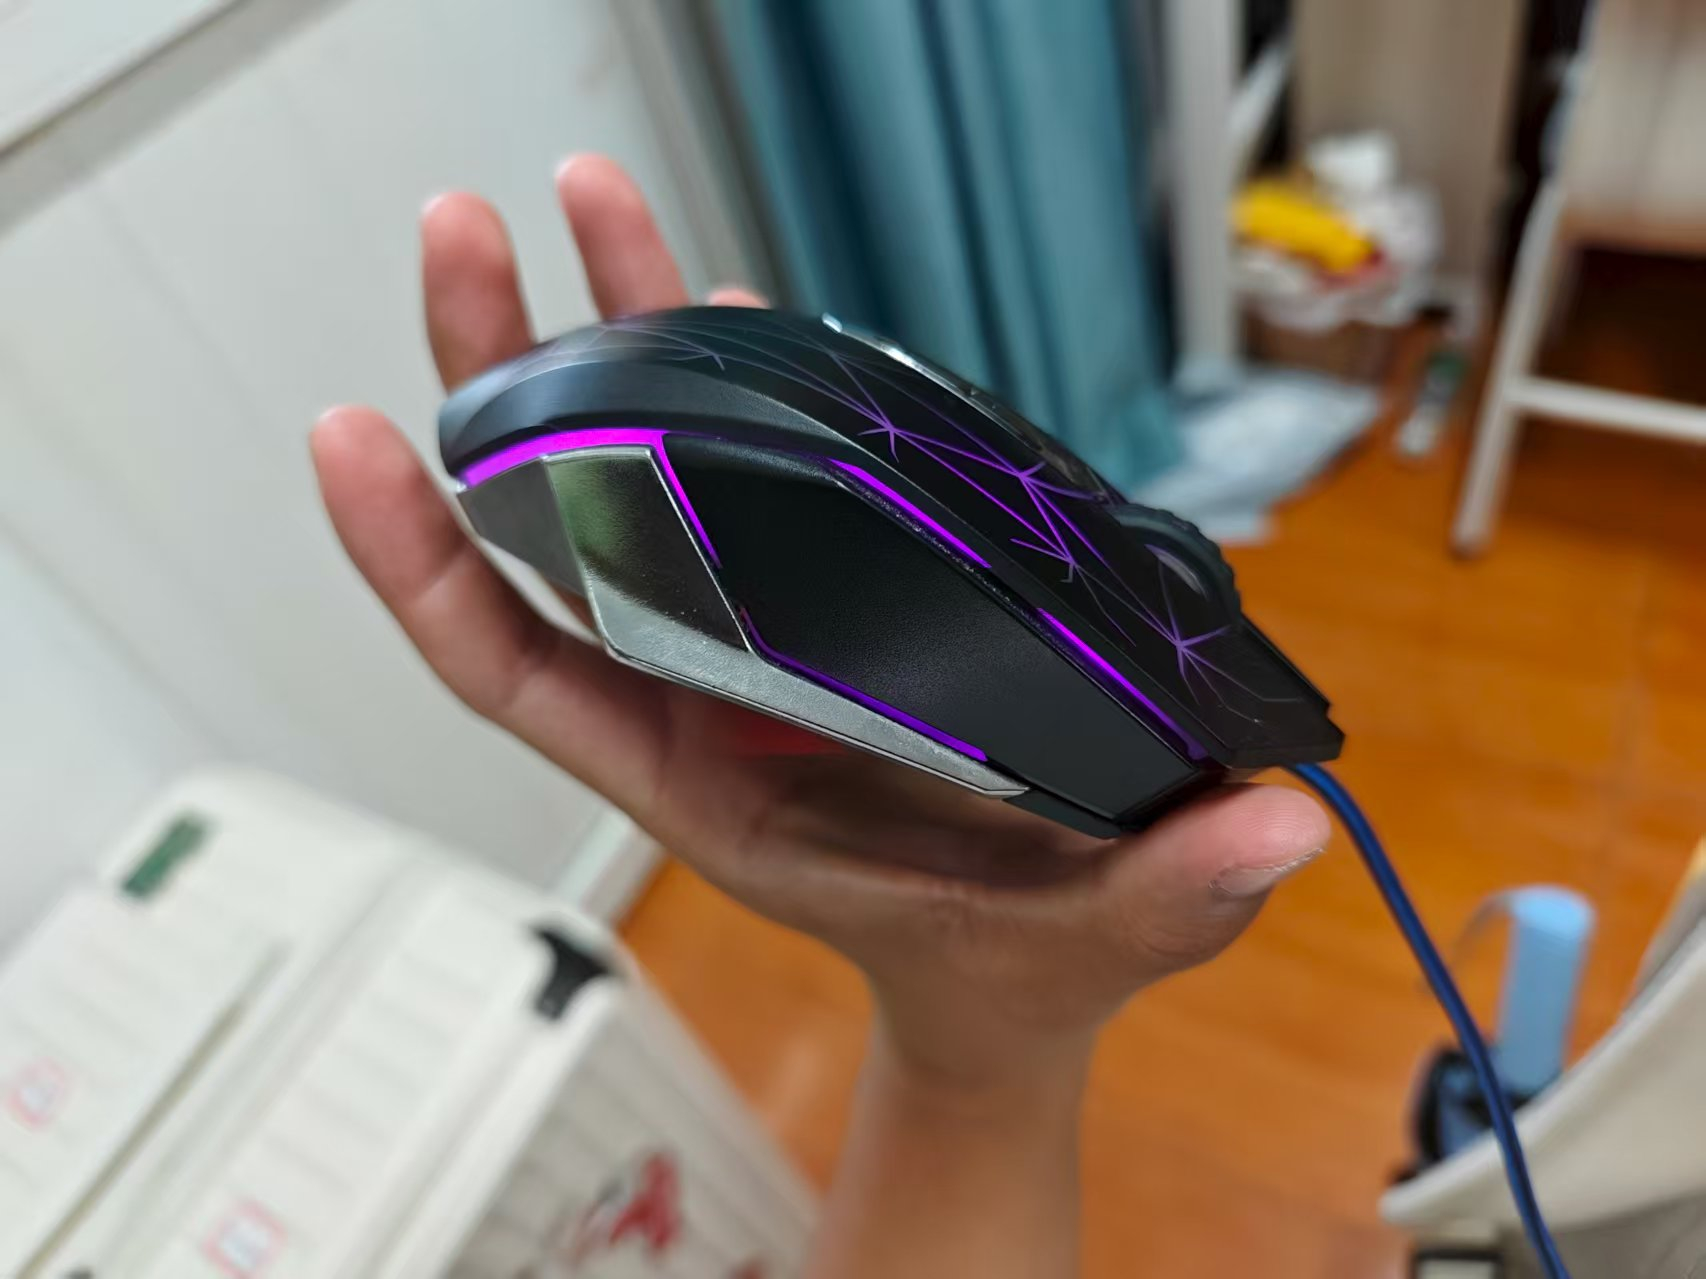mouse: (407, 289, 1380, 845)
